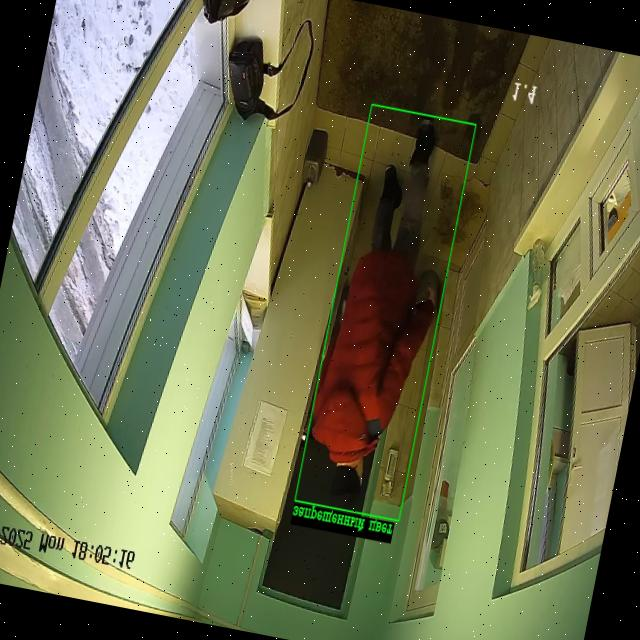Red uniform: (312, 119, 439, 501)
